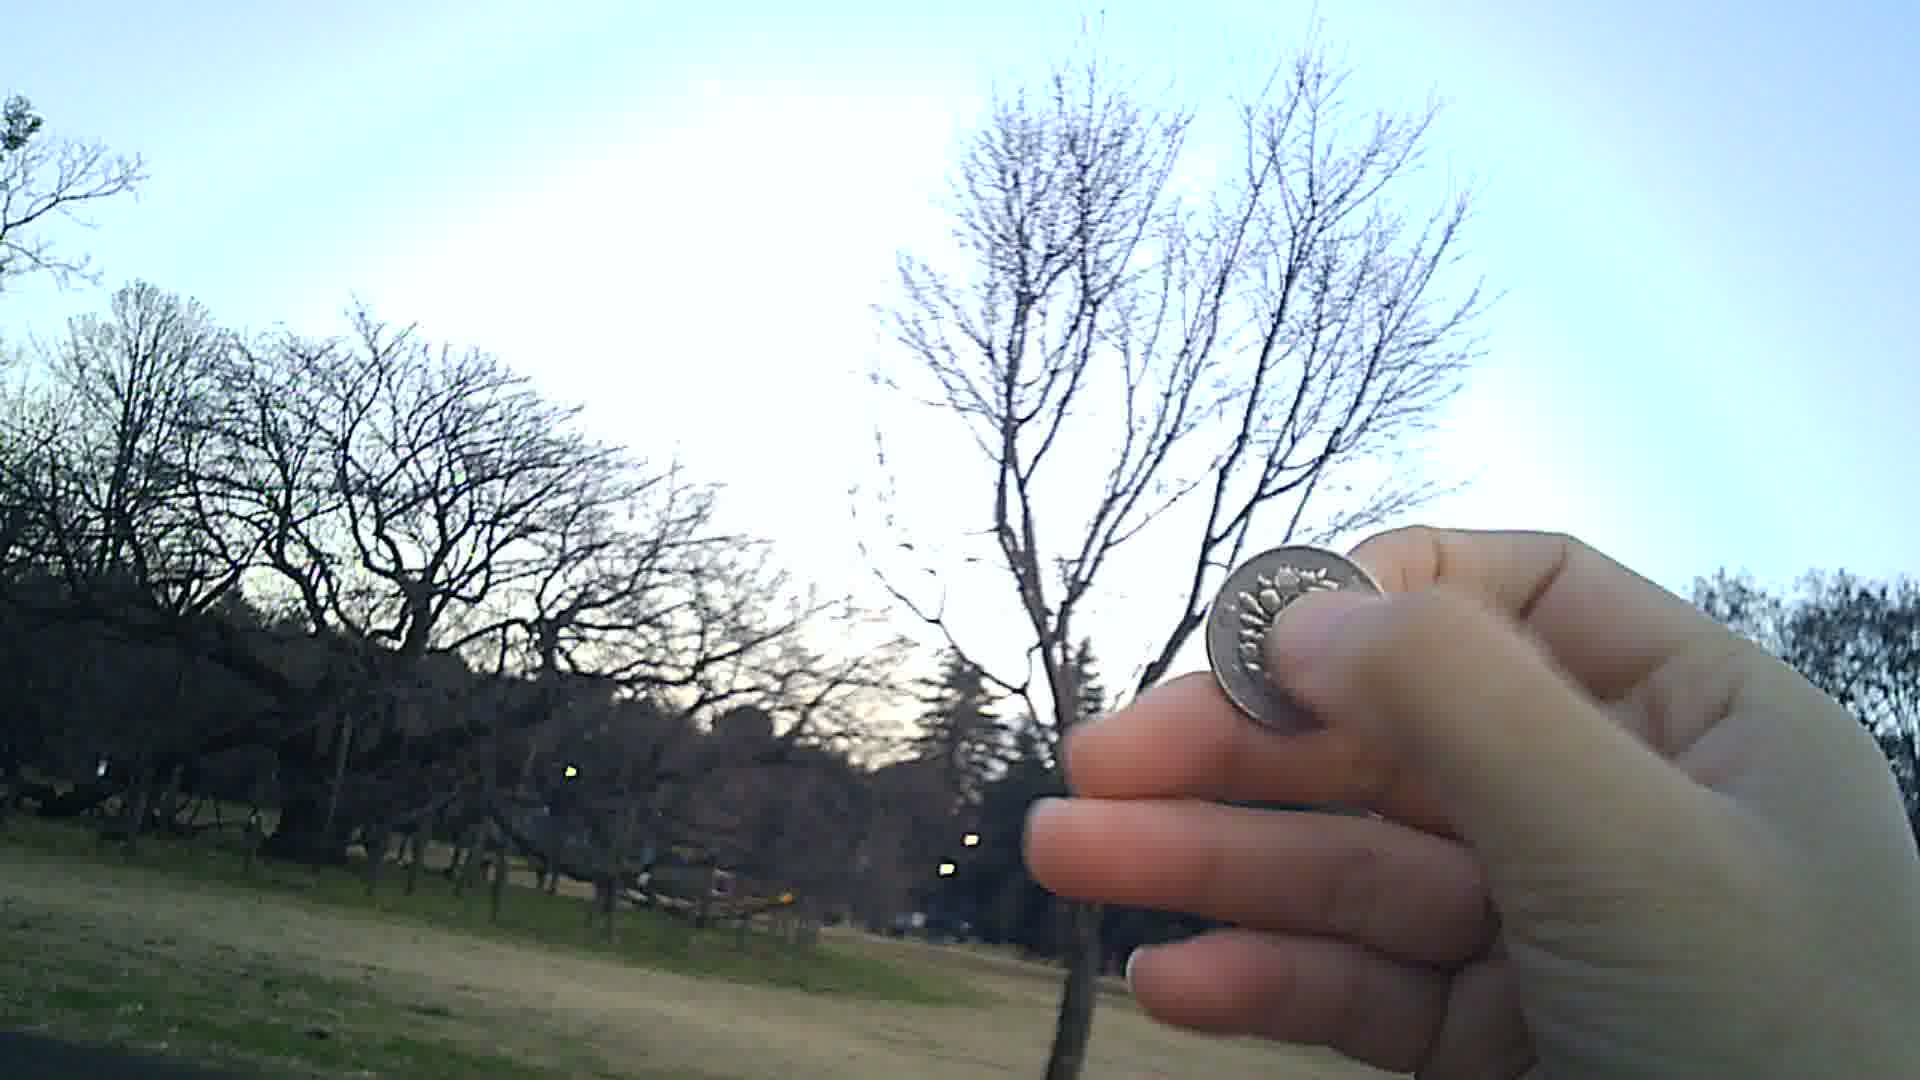100 Yen: (1209, 545, 1404, 756)
